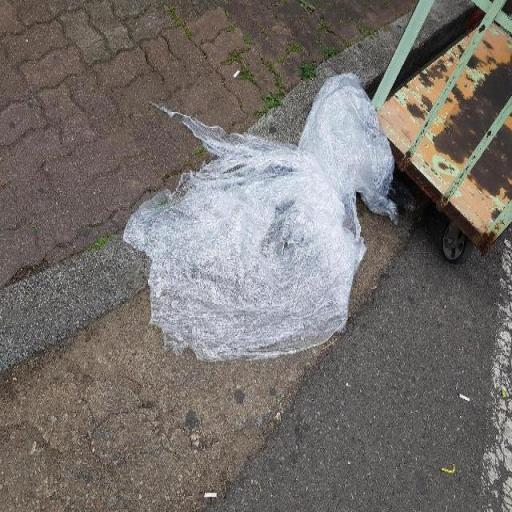plastic-bag: (124, 68, 396, 366)
